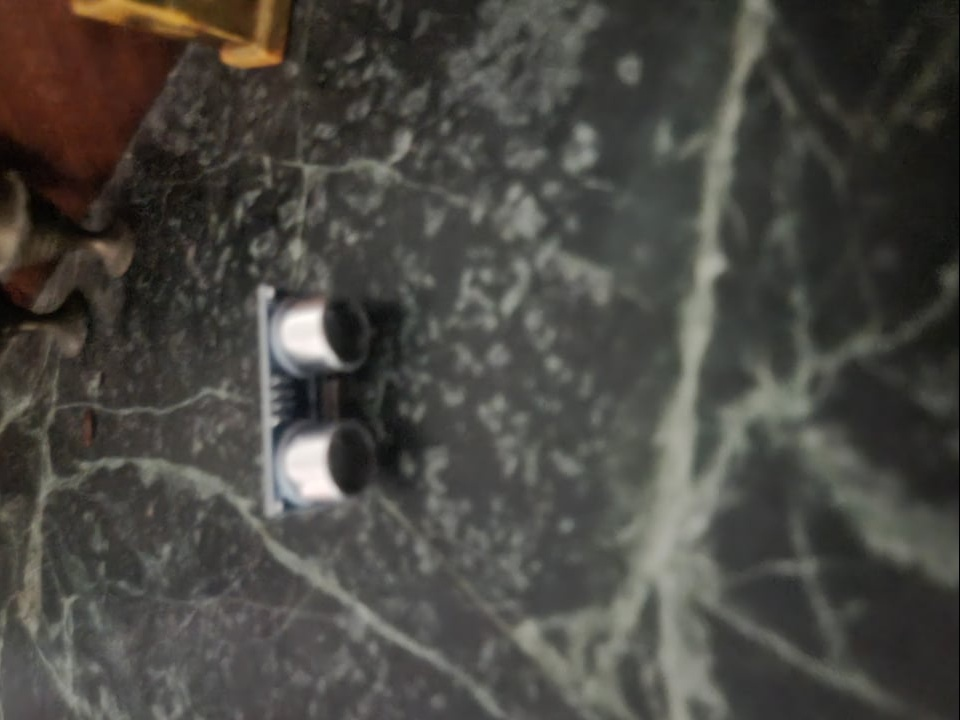SENSOR: (258, 283, 384, 512)
